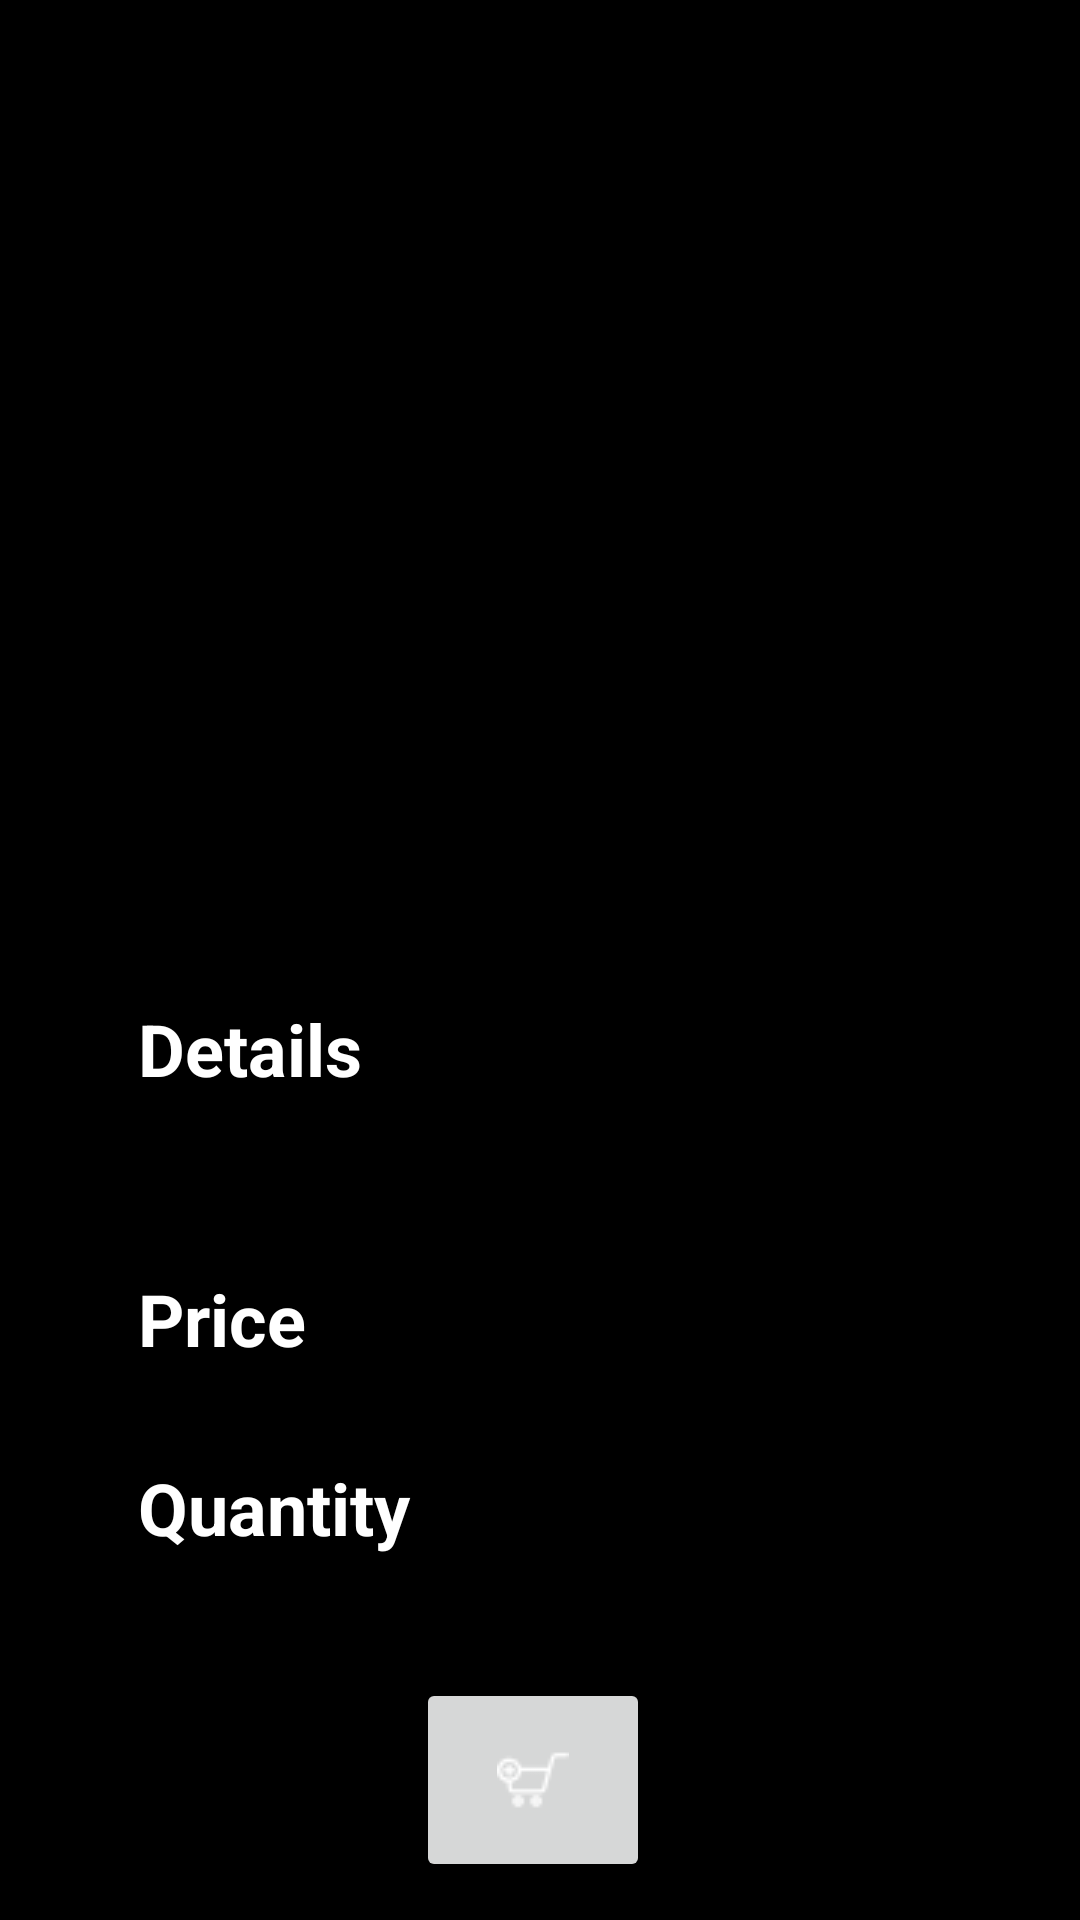

Named icons in this screenshot (1080px x 1920px) and their bounding boxes, (x1, y1, x2, y2):
addtocart: (428, 1696, 638, 1864)
